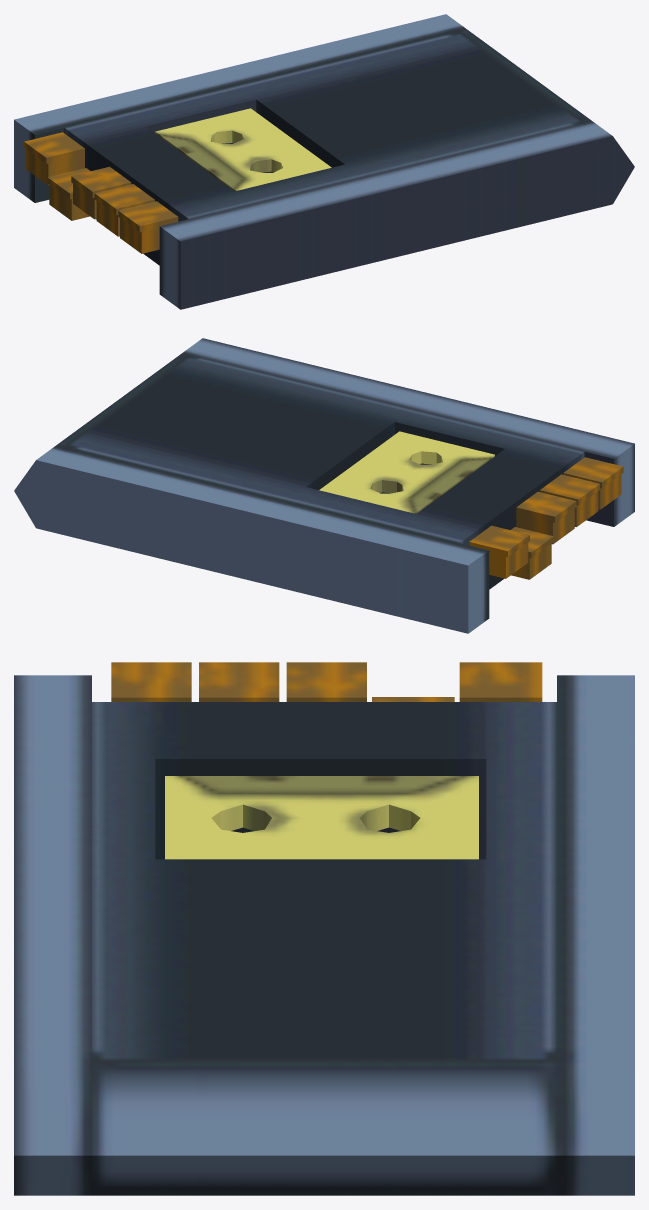
The model's file is Recorder.glb.
The picture shows the model from 3 angles, top to bottom: view 1: azimuth 30°, elevation 25°; view 2: azimuth 150°, elevation 25°; view 3: azimuth 270°, elevation 25°; orthographic projection. The views are drawn at different scales.
Visible parts, largest first — view 1: Recorder; view 2: Recorder; view 3: Recorder.
Boxes of the visible parts, left/top/right/bottom form: Recorder: left=14, top=14, right=634, bottom=309; Recorder: left=14, top=338, right=634, bottom=633; Recorder: left=14, top=662, right=634, bottom=1195.
Size of the model in its own units: 219 by 30.47 by 135.
1 material, 1 textured.
